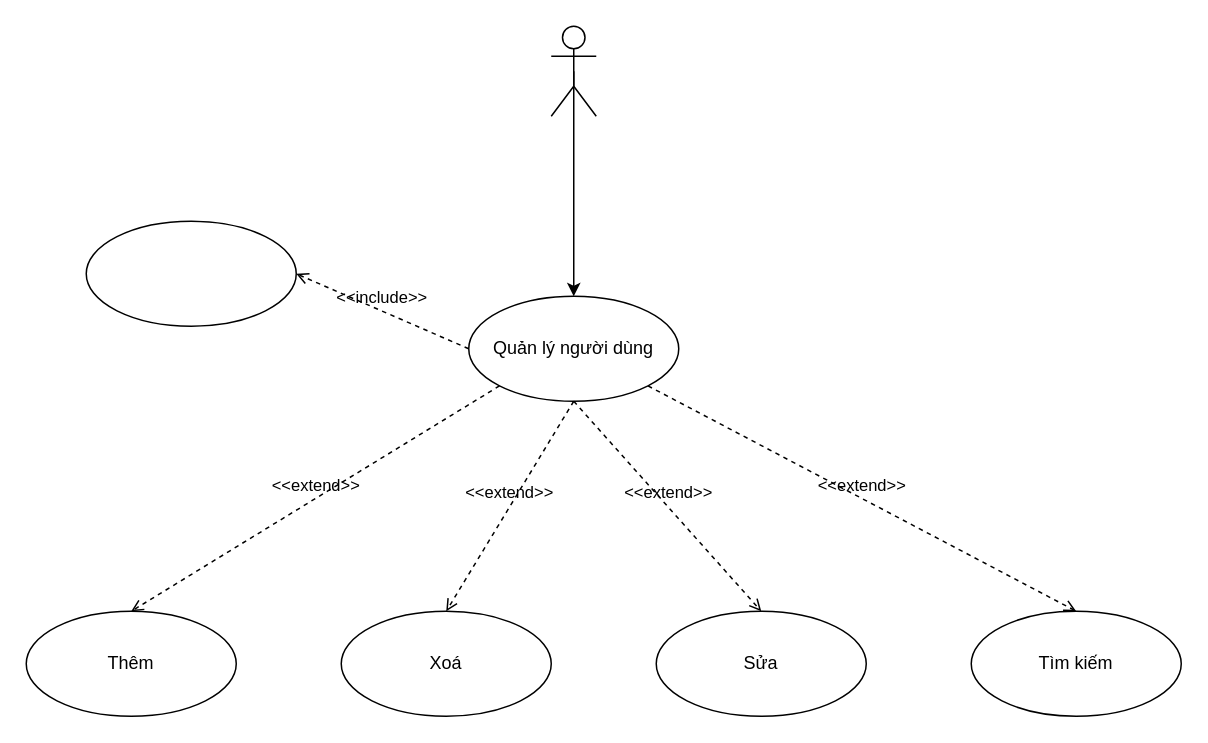
This 1208x743 diagram has some shape labels left out. The shapes that lost their labels are listed below. From the top down, each one's centre as x and y in pixels, then its label:
pixel 573 70: Admin
pixel 190 273: Đăng nhập
